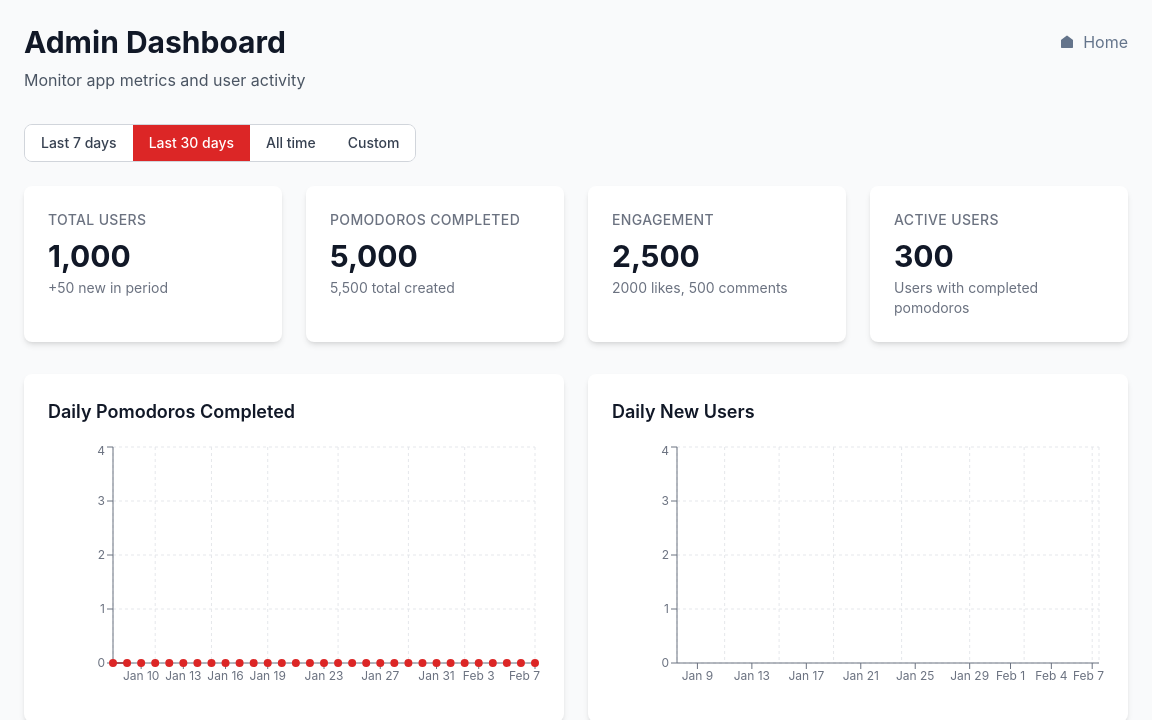
Test: AdminDashboard CSS behavior › time range selection › shows custom date inputs when custom range is selected
The image size is (1152, 720).
Click the button "Custom": (374, 143) x1=332 y1=125 x2=416 y2=161
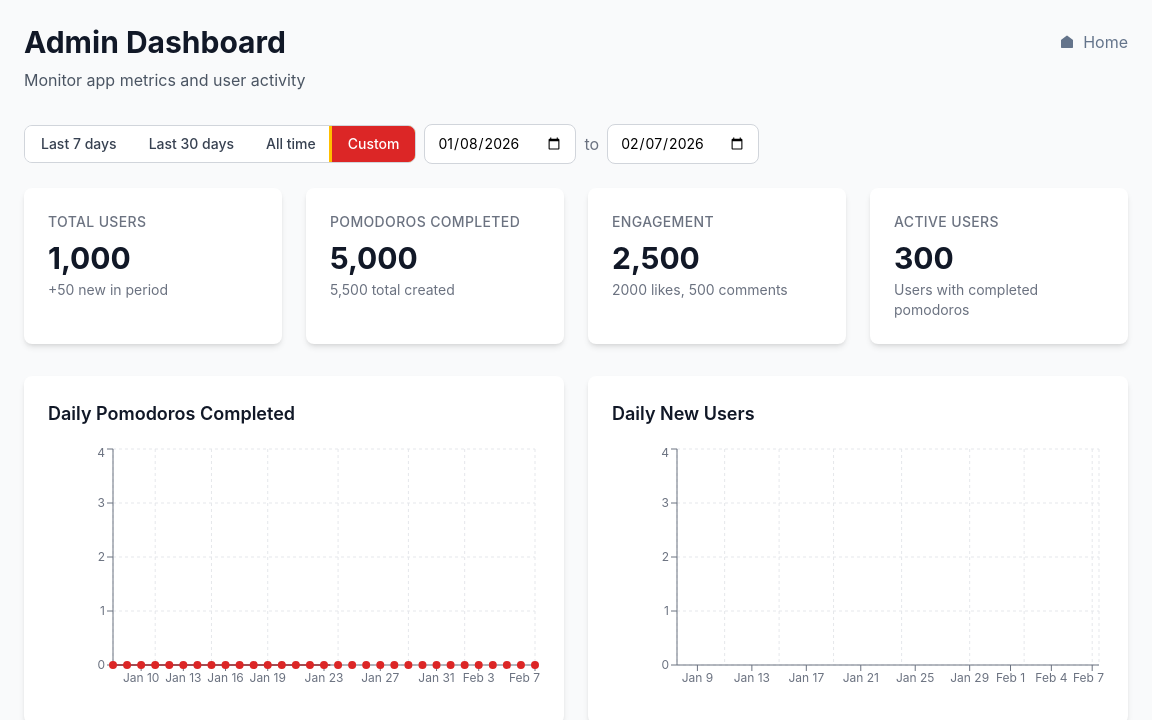
expect the element with class "cq-admin-custom-date-range" is shown: met, box x1=424 y1=124 x2=759 y2=164
